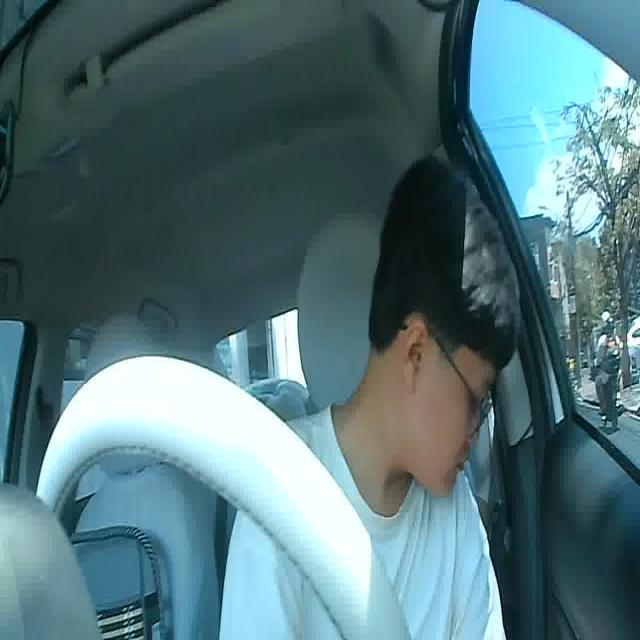Eye-Close: (461, 390, 486, 410)
Inattentive: (368, 154, 521, 500)
Normal: (452, 451, 468, 474)
